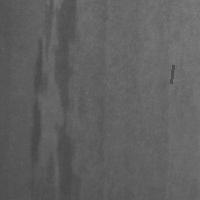inclusion: (27, 1, 82, 199), (169, 63, 175, 85)
